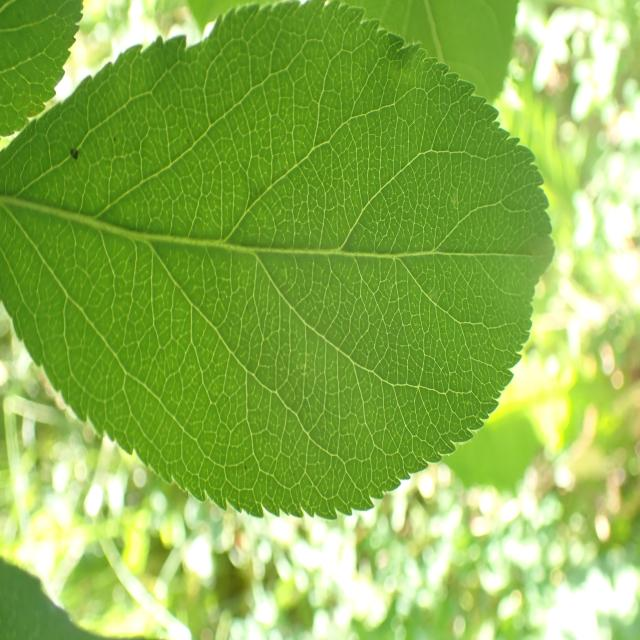healthy: (1, 1, 556, 521), (0, 0, 84, 137)
